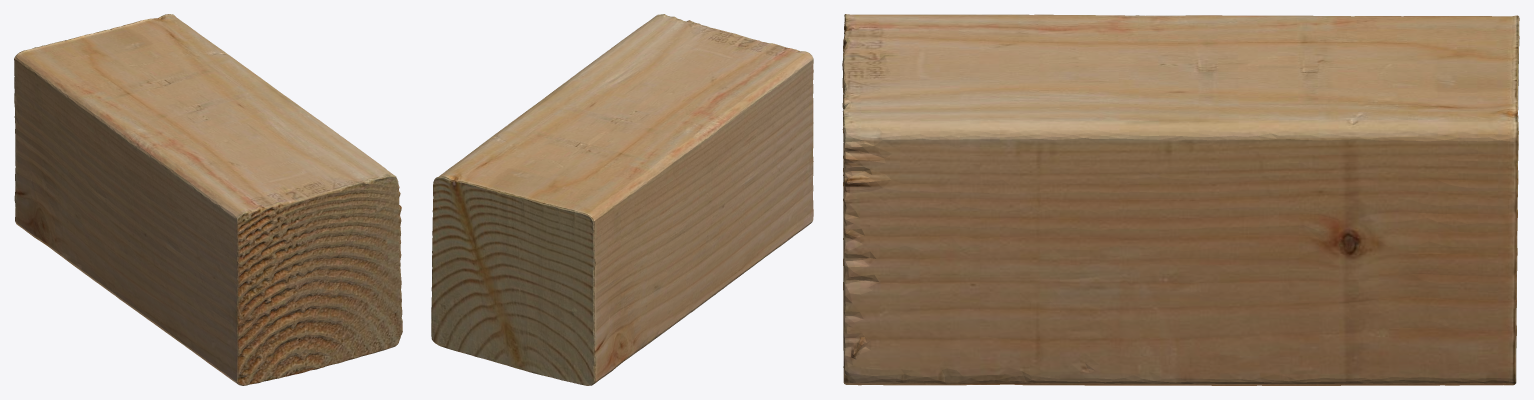
3 renders of one model, left to right at view 1: azimuth 30°, elevation 25°; view 2: azimuth 150°, elevation 25°; view 3: azimuth 270°, elevation 25°, orthographic. The views are drawn at different scales.
Visible parts, largest first — view 1: part_00; view 2: part_00; view 3: part_00.
Part boxes in pixels (x1,y1,x2,y2): part_00: (14, 14, 402, 385); part_00: (431, 14, 813, 385); part_00: (842, 14, 1519, 385).
Bounding box in the file's own units: 0.0897 × 0.0908 × 0.2061.
Materials: 1 (1 with a texture image).
